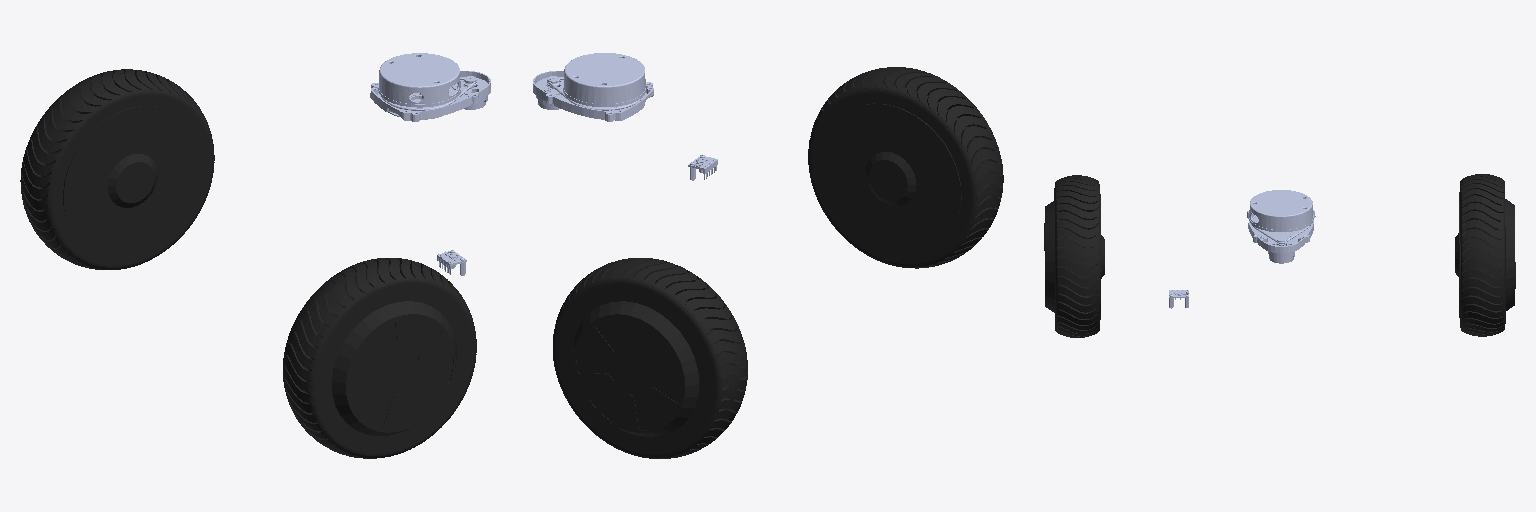
URDF robot description (robot_description_v2):
<?xml version="1.0" encoding="utf-8"?>
<!-- This URDF was automatically created by SolidWorks to URDF Exporter! Originally created by [author] ([email redacted]) 
     Commit Version: 1.6.0-4-g7f85cfe  Build Version: 1.6.7995.38578
     For more information, please see http://wiki.ros.org/sw_urdf_exporter -->
<robot
  name="robot_description_v2">
  <link
    name="base_link">
    <inertial>
      <origin
        xyz="0.0238435989874038 -0.00183858987047597 0.0585774485630484"
        rpy="0 0 0" />
      <mass
        value="9.16292167966058" />
      <inertia
        ixx="0.0303098706909851"
        ixy="-0.000262551161897404"
        ixz="0.000472148054425571"
        iyy="0.0534307098467186"
        iyz="-6.76436725828456E-07"
        izz="0.0734304007880829" />
    </inertial>
    <visual>
      <origin
        xyz="0 0 0"
        rpy="0 0 0" />
      <geometry>
        <mesh
          filename="package://robot_description_v2/meshes/base_link.STL" />
      </geometry>
      <material
        name="">
        <color
          rgba="0.752941176470588 0.752941176470588 0.752941176470588 1" />
      </material>
    </visual>
    <collision>
      <origin
        xyz="0 0 0"
        rpy="0 0 0" />
      <geometry>
        <mesh
          filename="package://robot_description_v2/meshes/base_link.STL" />
      </geometry>
    </collision>
  </link>
  <link
    name="lidar_link">
    <inertial>
      <origin
        xyz="0.0148383171347257 0.000447683431163026 -0.0911536208242788"
        rpy="0 0 0" />
      <mass
        value="0.0312409127406485" />
      <inertia
        ixx="8.88026370811002E-06"
        ixy="-1.77664494330377E-07"
        ixz="1.13027679917078E-07"
        iyy="1.44910018205435E-05"
        iyz="3.4607611499625E-08"
        izz="2.25289099520271E-05" />
    </inertial>
    <visual>
      <origin
        xyz="0 0 0"
        rpy="0 0 0" />
      <geometry>
        <mesh
          filename="package://robot_description_v2/meshes/lidar_link.STL" />
      </geometry>
      <material
        name="">
        <color
          rgba="0.792156862745098 0.819607843137255 0.933333333333333 1" />
      </material>
    </visual>
    <collision>
      <origin
        xyz="0 0 0"
        rpy="0 0 0" />
      <geometry>
        <mesh
          filename="package://robot_description_v2/meshes/lidar_link.STL" />
      </geometry>
    </collision>
  </link>
  <joint
    name="lidar"
    type="fixed">
    <origin
      xyz="0.155666725645511 0.00112777065618036 0.216100000004219"
      rpy="0 0 0" />
    <parent
      link="base_link" />
    <child
      link="lidar_link" />
    <axis
      xyz="0 0 0" />
  </joint>
  <link
    name="imu_link">
    <inertial>
      <origin
        xyz="-0.000128980117751309 -0.000191495598006186 -0.00384070509348666"
        rpy="0 0 0" />
      <mass
        value="0.00099989811898683" />
      <inertia
        ixx="2.50447716935415E-08"
        ixy="1.03965056246901E-10"
        ixz="-2.68560481392878E-14"
        iyy="1.2451353550853E-08"
        iyz="-1.18565423317864E-14"
        izz="3.06376353115898E-08" />
    </inertial>
    <visual>
      <origin
        xyz="0 0 0"
        rpy="0 0 0" />
      <geometry>
        <mesh
          filename="package://robot_description_v2/meshes/imu_link.STL" />
      </geometry>
      <material
        name="">
        <color
          rgba="0.792156862745098 0.819607843137255 0.933333333333333 1" />
      </material>
    </visual>
    <collision>
      <origin
        xyz="0 0 0"
        rpy="0 0 0" />
      <geometry>
        <mesh
          filename="package://robot_description_v2/meshes/imu_link.STL" />
      </geometry>
    </collision>
  </link>
  <joint
    name="imu"
    type="fixed">
    <origin
      xyz="0.126428933055049 -0.100523077234269 0.0330200000034927"
      rpy="0 0 0" />
    <parent
      link="base_link" />
    <child
      link="imu_link" />
    <axis
      xyz="0 0 0" />
  </joint>
  <link
    name="right_wheel_link">
    <inertial>
      <origin
        xyz="0.000243587829777958 -0.0295000990455644 8.01156918583956E-11"
        rpy="0 0 0" />
      <mass
        value="0.981706650902443" />
      <inertia
        ixx="0.00165298875829609"
        ixy="-1.01208993064455E-05"
        ixz="-1.81686206531272E-09"
        iyy="0.00287861061005824"
        iyz="-1.35675311985422E-11"
        izz="0.00165291235980834" />
    </inertial>
    <visual>
      <origin
        xyz="0 0 0"
        rpy="0 0 0" />
      <geometry>
        <mesh
          filename="package://robot_description_v2/meshes/right_wheel_link.STL" />
      </geometry>
      <material
        name="">
        <color
          rgba="0.2 0.2 0.2 1" />
      </material>
    </visual>
    <collision>
      <origin
        xyz="0 0 0"
        rpy="0 0 0" />
      <geometry>
        <mesh
          filename="package://robot_description_v2/meshes/right_wheel_link.STL" />
      </geometry>
    </collision>
  </link>
  <joint
    name="right_wheel"
    type="continuous">
    <origin
      xyz="0.00157556970077088 -0.175020257687692 0.0150000000042174"
      rpy="0 0 0" />
    <parent
      link="base_link" />
    <child
      link="right_wheel_link" />
    <axis
      xyz="-0.00825691107326283 0.999965911128739 0" />
  </joint>
  <link
    name="left_wheel_link">
    <inertial>
      <origin
        xyz="-0.000243587829778624 0.0295000990455639 8.01149702134296E-11"
        rpy="0 0 0" />
      <mass
        value="0.981706650902443" />
      <inertia
        ixx="0.00165299120834847"
        ixy="-1.01249109871006E-05"
        ixz="-1.44984115093078E-08"
        iyy="0.00287861950901393"
        iyz="7.25004217184161E-11"
        izz="0.00165291988234476" />
    </inertial>
    <visual>
      <origin
        xyz="0 0 0"
        rpy="0 0 0" />
      <geometry>
        <mesh
          filename="package://robot_description_v2/meshes/left_wheel_link.STL" />
      </geometry>
      <material
        name="">
        <color
          rgba="0.2 0.2 0.2 1" />
      </material>
    </visual>
    <collision>
      <origin
        xyz="0 0 0"
        rpy="0 0 0" />
      <geometry>
        <mesh
          filename="package://robot_description_v2/meshes/left_wheel_link.STL" />
      </geometry>
    </collision>
  </link>
  <joint
    name="left_wheel"
    type="continuous">
    <origin
      xyz="-0.00131434917487327 0.174967811207364 0.0150000000042175"
      rpy="0 0 0" />
    <parent
      link="base_link" />
    <child
      link="left_wheel_link" />
    <axis
      xyz="0.00825691107326281 -0.999965911128739 0" />
  </joint>
  <link
    name="cam_link">
    <inertial>
      <origin
        xyz="-0.0286974043856941 -0.00315323141543045 -0.00696427170361802"
        rpy="0 0 0" />
      <mass
        value="0.646454884722171" />
      <inertia
        ixx="0.0028423827313704"
        ixy="1.87273045722636E-05"
        ixz="1.48075090936093E-07"
        iyy="0.000263758634244186"
        iyz="-3.33736128214463E-08"
        izz="0.00296274058967308" />
    </inertial>
    <visual>
      <origin
        xyz="0 0 0"
        rpy="0 0 0" />
      <geometry>
        <mesh
          filename="package://robot_description_v2/meshes/cam_link.STL" />
      </geometry>
      <material
        name="">
        <color
          rgba="0.752941176470588 0.752941176470588 0.752941176470588 1" />
      </material>
    </visual>
    <collision>
      <origin
        xyz="0 0 0"
        rpy="0 0 0" />
      <geometry>
        <mesh
          filename="package://robot_description_v2/meshes/cam_link.STL" />
      </geometry>
    </collision>
  </link>
  <joint
    name="cam"
    type="fixed">
    <origin
      xyz="0.264952270554911 0.00535821231736117 0.284425164615102"
      rpy="0 0 0" />
    <parent
      link="base_link" />
    <child
      link="cam_link" />
    <axis
      xyz="0 0 0" />
  </joint>
</robot>

--- Facts derived from the render (not from the file) ---
3 views of the same robot in one strip: view 1: azimuth 30°, elevation 25°; view 2: azimuth 150°, elevation 25°; view 3: azimuth 270°, elevation 25° (orthographic).
Robot: robot_description_v2 — 6 links, 5 joints (2 continuous, 3 fixed); root link base_link; default pose: all joints at 0.
Links seen in each view (by area): view 1: left_wheel_link, right_wheel_link, lidar_link; view 2: right_wheel_link, left_wheel_link, lidar_link; view 3: left_wheel_link, right_wheel_link, lidar_link.
Link boxes in pixels (<box>): left_wheel_link: <box>20,69,214,269</box>; right_wheel_link: <box>283,258,476,458</box>; lidar_link: <box>370,53,490,121</box>; right_wheel_link: <box>808,67,1003,268</box>; left_wheel_link: <box>553,258,747,458</box>; lidar_link: <box>533,53,653,121</box>; left_wheel_link: <box>1455,174,1515,336</box>; right_wheel_link: <box>1044,175,1104,337</box>; lidar_link: <box>1247,190,1315,263</box>.
Bounding box of the posed robot: 0.3006 × 0.4708 × 0.2126 m (x, y, z).
Meshes: 6 distinct files referenced, 4 mesh visuals loaded (4 binary STL); not drawn: 2 (reference not matched to a file when rendering).